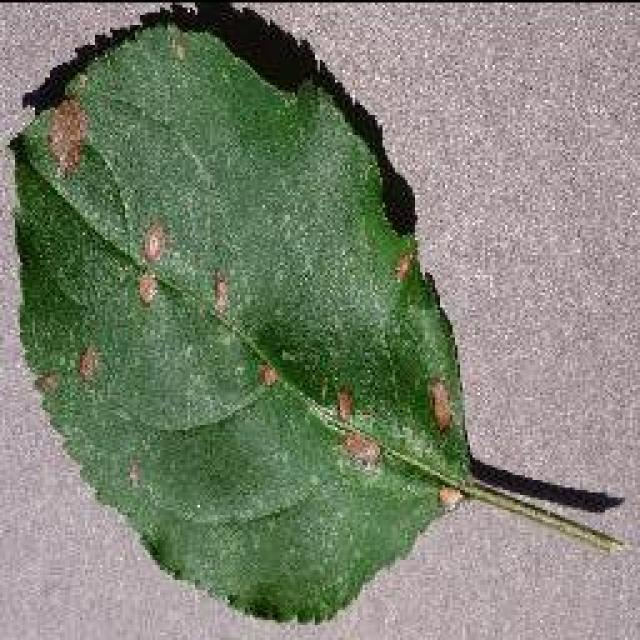apple black rot: (5, 0, 625, 625)
